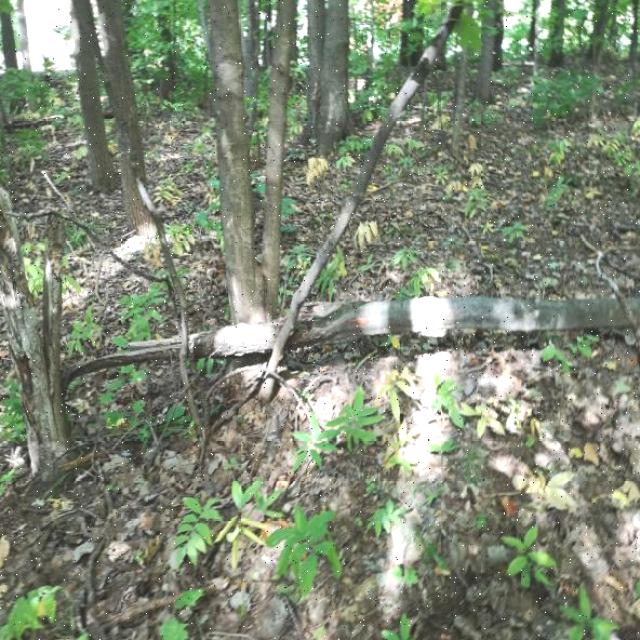fallen_object: (51, 230, 640, 437)
